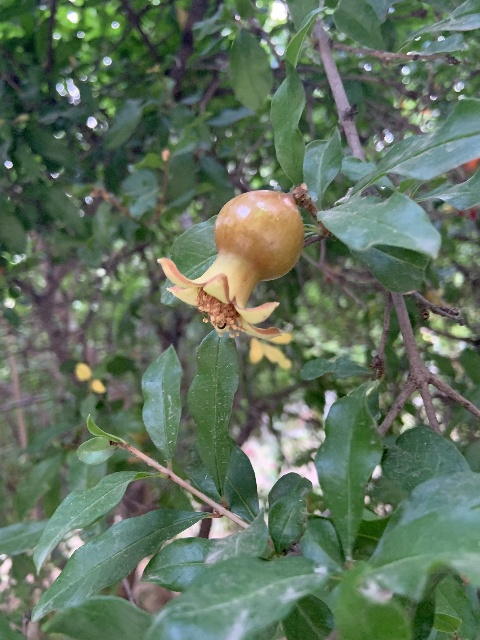early-fruit: (158, 189, 304, 366), (445, 156, 480, 219)
